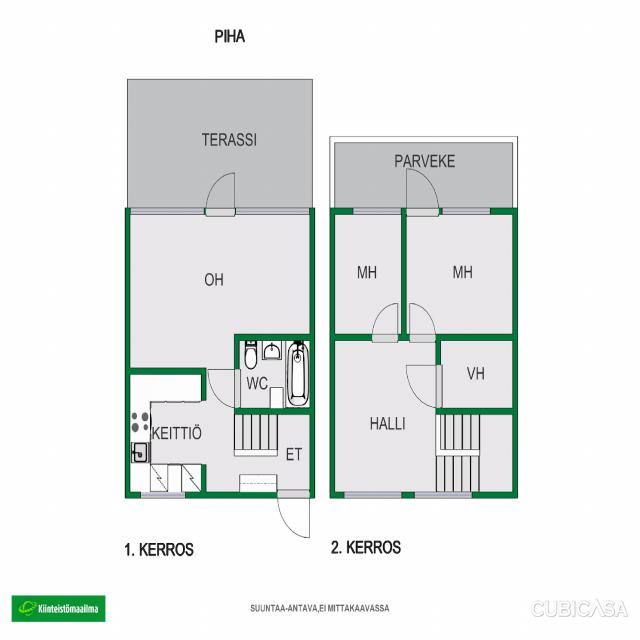door: (404, 365, 441, 407), (406, 166, 438, 214), (278, 492, 309, 540), (206, 169, 234, 214), (206, 369, 239, 406), (372, 300, 397, 340), (410, 300, 435, 340)
